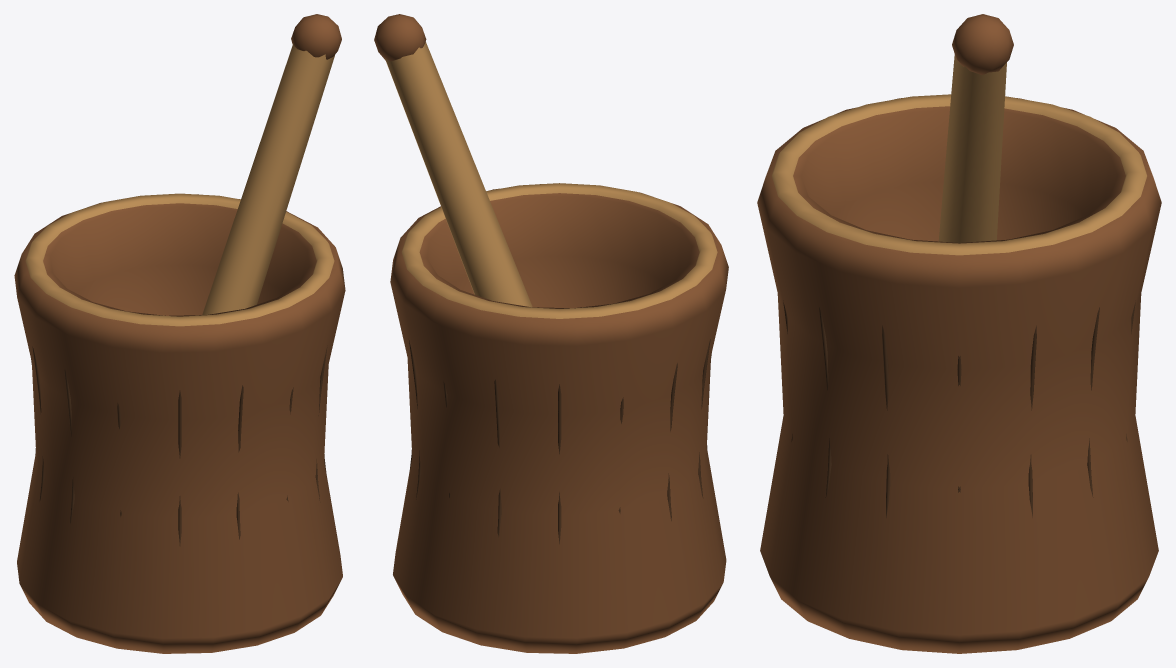
Rendered from LV_COI_GIA_GAO_01.glb.
3 views of the same model, side by side, from view 1: azimuth 30°, elevation 25°; view 2: azimuth 150°, elevation 25°; view 3: azimuth 270°, elevation 25° (orthographic). The views are drawn at different scales.
Visible parts, largest first — view 1: LV_COI_GIA_GAO_01-surface-825331, LV_COI_GIA_GAO_01-surface-b68850, LV_COI_GIA_GAO_01-surface-50351f; view 2: LV_COI_GIA_GAO_01-surface-825331, LV_COI_GIA_GAO_01-surface-b68850, LV_COI_GIA_GAO_01-surface-50351f; view 3: LV_COI_GIA_GAO_01-surface-825331, LV_COI_GIA_GAO_01-surface-b68850, LV_COI_GIA_GAO_01-surface-50351f.
Boxes of the visible parts, box(x1,y1,x2,y2) form: LV_COI_GIA_GAO_01-surface-825331: box(14, 14, 345, 653); LV_COI_GIA_GAO_01-surface-b68850: box(25, 43, 334, 326); LV_COI_GIA_GAO_01-surface-50351f: box(31, 345, 327, 546); LV_COI_GIA_GAO_01-surface-825331: box(374, 14, 728, 653); LV_COI_GIA_GAO_01-surface-b68850: box(385, 42, 717, 318); LV_COI_GIA_GAO_01-surface-50351f: box(409, 339, 711, 544); LV_COI_GIA_GAO_01-surface-825331: box(757, 14, 1161, 653); LV_COI_GIA_GAO_01-surface-b68850: box(772, 54, 1146, 255); LV_COI_GIA_GAO_01-surface-50351f: box(783, 300, 1135, 517).
Bounding box in the file's own units: 0.748 × 1.21 × 0.69.
